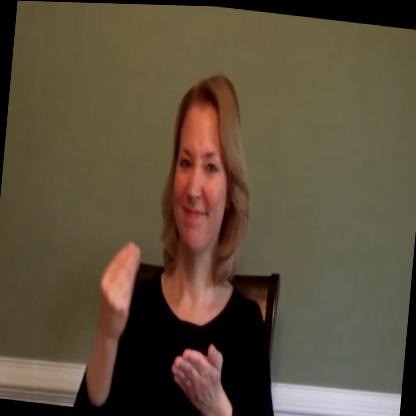Expensive: (84, 228, 235, 416)
